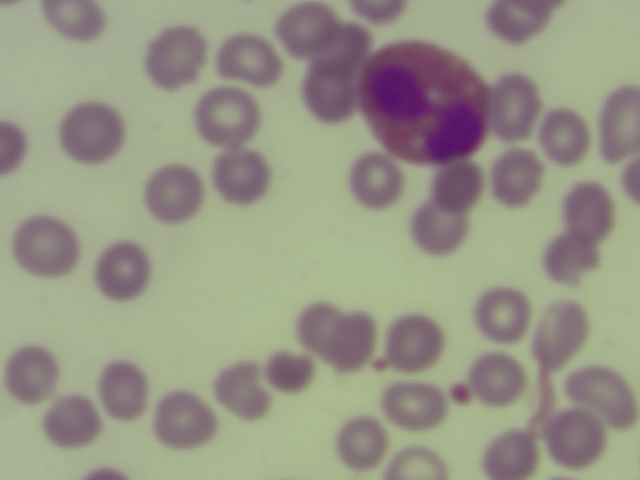Platelets: (449, 380, 474, 407)
RBC: (597, 83, 640, 161), (562, 359, 627, 404), (477, 290, 529, 343), (472, 354, 524, 407), (483, 427, 535, 480), (552, 413, 604, 466), (535, 306, 587, 359), (546, 231, 598, 284), (564, 184, 616, 237), (415, 199, 467, 252), (430, 158, 482, 211), (387, 378, 439, 431), (338, 413, 390, 466), (390, 316, 442, 369), (329, 313, 381, 366), (293, 298, 345, 351), (264, 343, 316, 396), (216, 362, 268, 415), (157, 392, 209, 445), (98, 363, 150, 416), (46, 397, 98, 450), (6, 347, 58, 400), (491, 150, 543, 203), (541, 110, 593, 163), (489, 81, 541, 134), (348, 154, 400, 207), (303, 68, 355, 121), (318, 19, 370, 72), (99, 246, 151, 299), (20, 218, 72, 271), (148, 165, 200, 218), (66, 104, 118, 157), (214, 149, 266, 202), (201, 90, 253, 143), (221, 32, 273, 85), (151, 28, 203, 81), (488, 1, 550, 45), (277, 1, 329, 53), (42, 1, 103, 43), (385, 446, 449, 480), (1, 117, 32, 176), (355, 1, 401, 25)
WBC: (362, 50, 485, 168)
